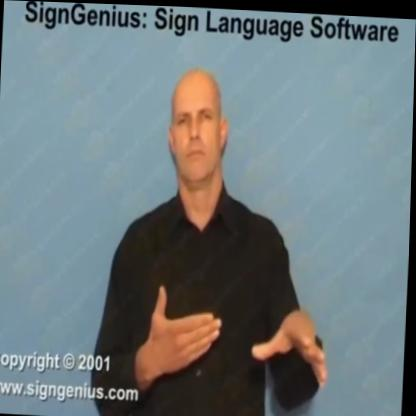Expensive: (145, 262, 333, 405)
